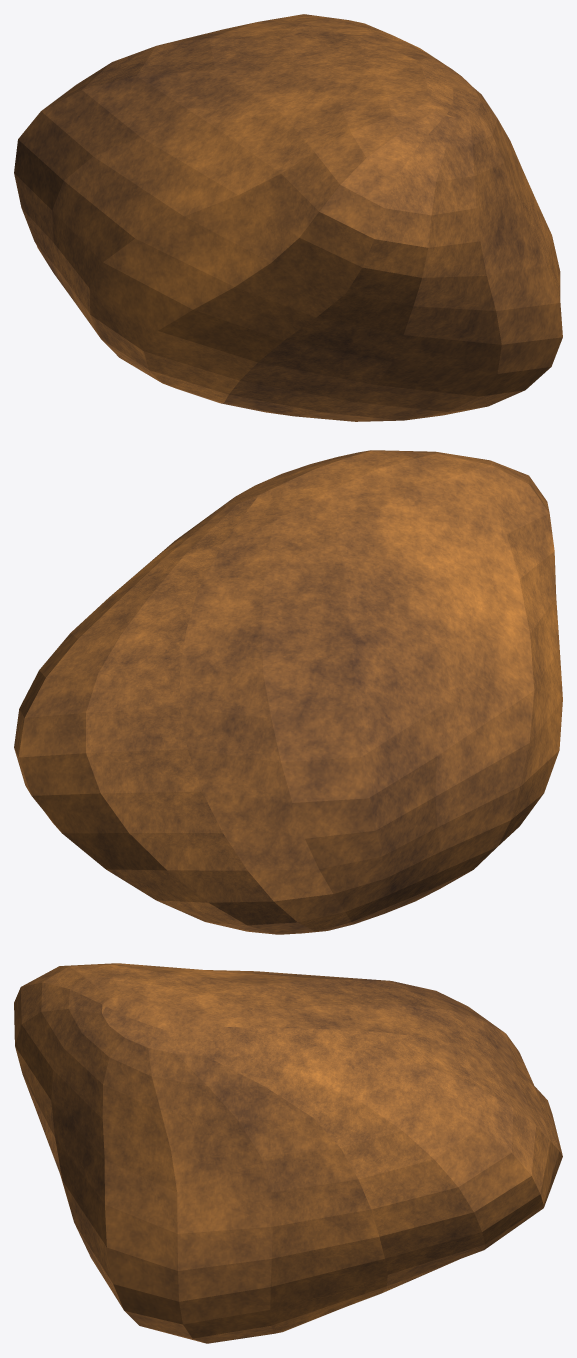
File: Asteroid.fbx
The picture shows the model from 3 angles, top to bottom: view 1: azimuth 30°, elevation 25°; view 2: azimuth 150°, elevation 25°; view 3: azimuth 270°, elevation 25°; orthographic projection. The views are drawn at different scales.
Visible parts, largest first — view 1: Sphere; view 2: Sphere; view 3: Sphere.
Boxes of the visible parts, left/top/right/bottom form: Sphere: left=14, top=14, right=562, bottom=421; Sphere: left=14, top=450, right=562, bottom=934; Sphere: left=14, top=963, right=562, bottom=1343.
Size of the model in its own units: 617 by 522 by 813.
Materials: 1 (1 with a texture image).
